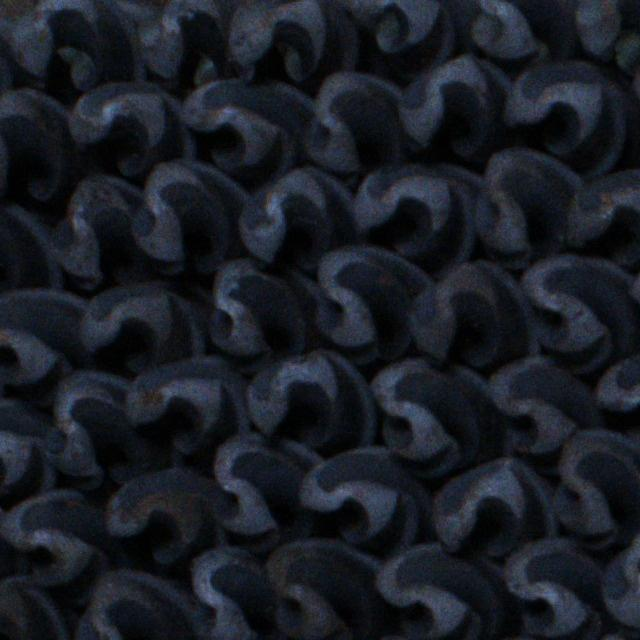tool_b: (505, 58, 640, 175), (369, 360, 505, 476), (47, 369, 177, 488), (130, 160, 252, 277), (312, 245, 434, 362), (517, 253, 639, 370), (352, 163, 484, 271), (264, 537, 402, 640), (374, 541, 517, 640), (298, 447, 433, 548), (410, 259, 538, 365), (244, 347, 375, 448), (6, 0, 154, 89), (0, 487, 116, 600), (177, 77, 313, 173), (211, 434, 324, 548), (476, 150, 585, 268), (124, 357, 251, 457), (430, 458, 558, 556), (66, 80, 199, 174), (241, 167, 362, 270), (101, 467, 228, 564), (398, 54, 517, 156), (484, 358, 603, 456), (78, 283, 210, 371), (208, 259, 318, 364), (333, 0, 478, 78), (499, 537, 608, 639), (299, 74, 405, 178), (50, 174, 148, 286), (224, 0, 359, 80), (553, 430, 640, 549), (137, 0, 254, 84), (2, 291, 94, 388), (184, 545, 276, 640), (74, 571, 199, 640), (0, 87, 74, 201), (464, 0, 586, 65), (568, 170, 640, 260), (0, 201, 62, 297), (0, 396, 57, 496), (574, 0, 640, 70), (0, 577, 73, 640), (600, 523, 640, 636), (593, 351, 640, 422)
